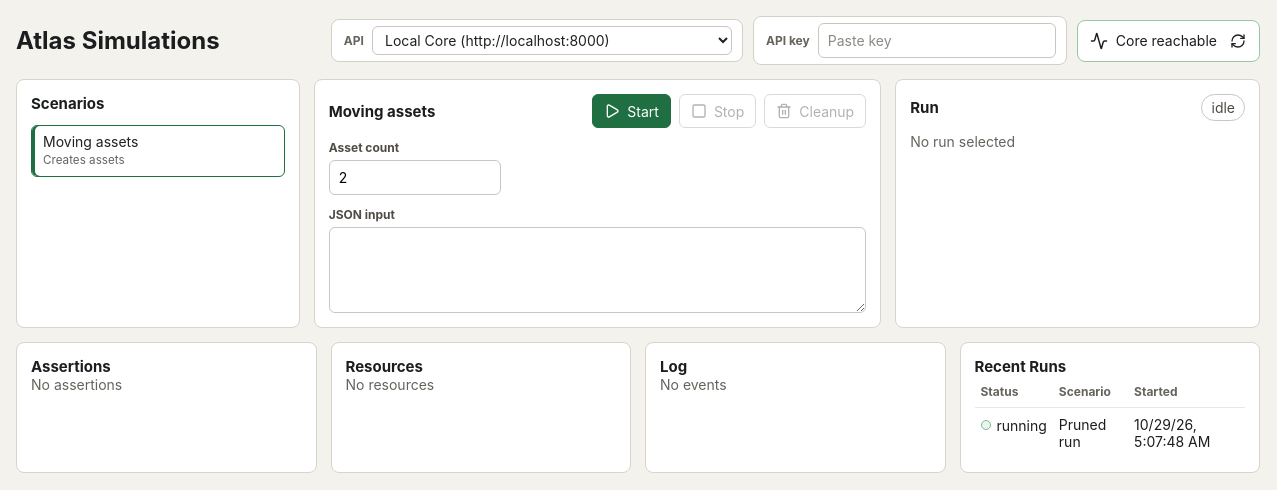
it: App run lifecycle › clears the selected run when refresh reports it missing
What coordinates should you click on to do the following:
click the button "Pruned run"
I would click on:
 (1090, 433)
Its box is [1059,416,1122,450].
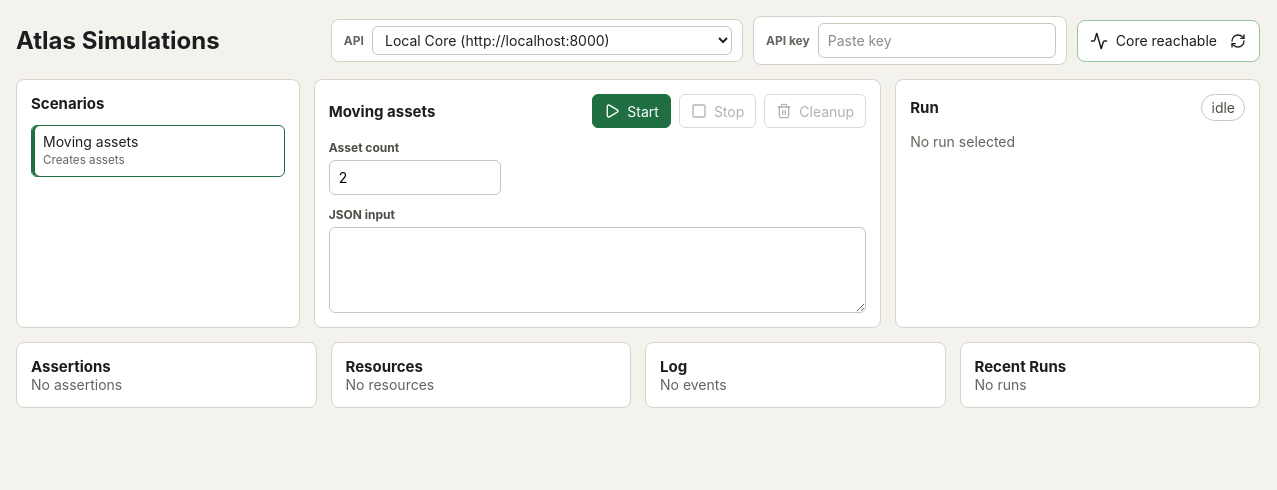
Expected: the text "No run selected" is shown, [910,133,1015,150]
Expected: the text "No runs" is shown, [974,376,1027,393]
